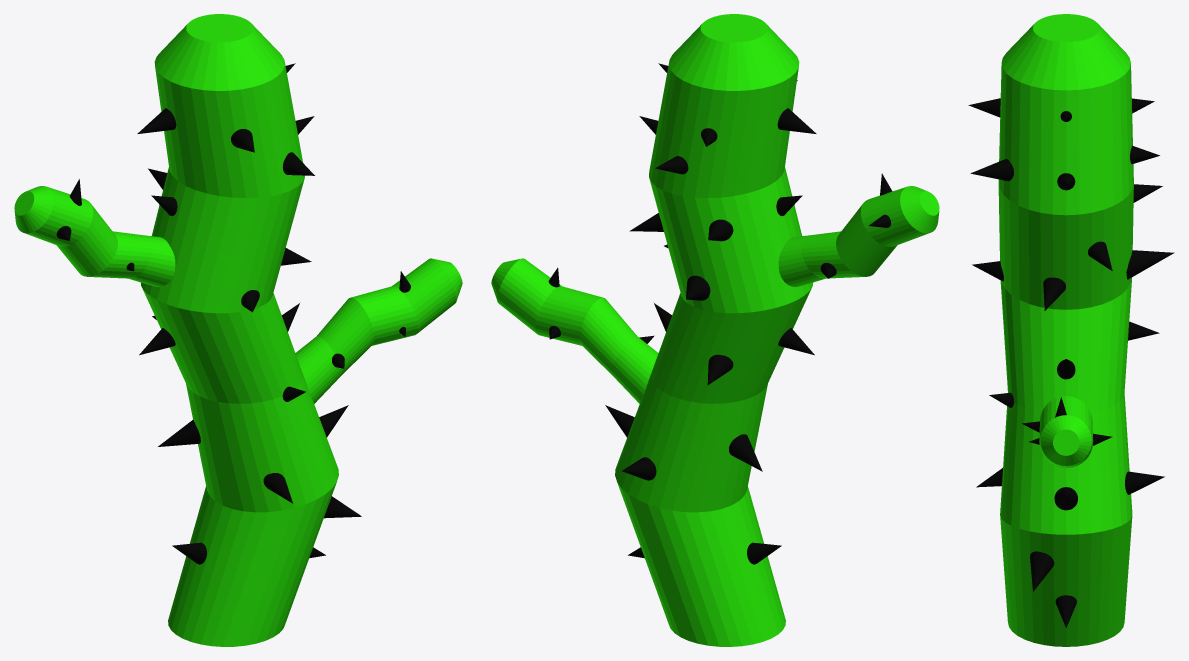
Rendered from Cactus5.glb.
The picture shows the model from 3 angles, left to right: view 1: azimuth 30°, elevation 25°; view 2: azimuth 150°, elevation 25°; view 3: azimuth 270°, elevation 25°; orthographic projection.
Visible parts, largest first — view 1: Cylinder.002, Cone.032; view 2: Cylinder.002, Cone.032; view 3: Cylinder.002, Cone.032.
Part boxes in pixels (x1,y1,x2,y2): Cylinder.002: (14, 14, 462, 646); Cone.032: (56, 63, 410, 564); Cylinder.002: (491, 14, 939, 646); Cone.032: (548, 63, 892, 564); Cylinder.002: (998, 14, 1133, 646); Cone.032: (968, 98, 1174, 627).
Bounding box in the file's own units: 7.05 × 9.09 × 2.88.
